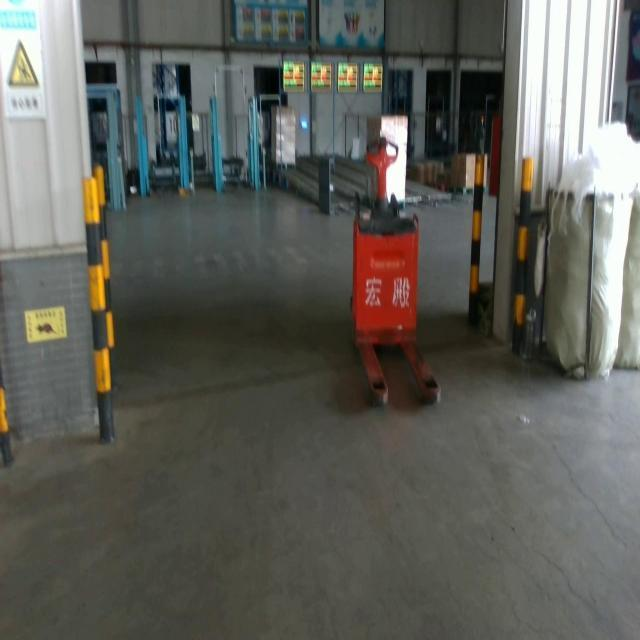forklift: (348, 133, 443, 409)
